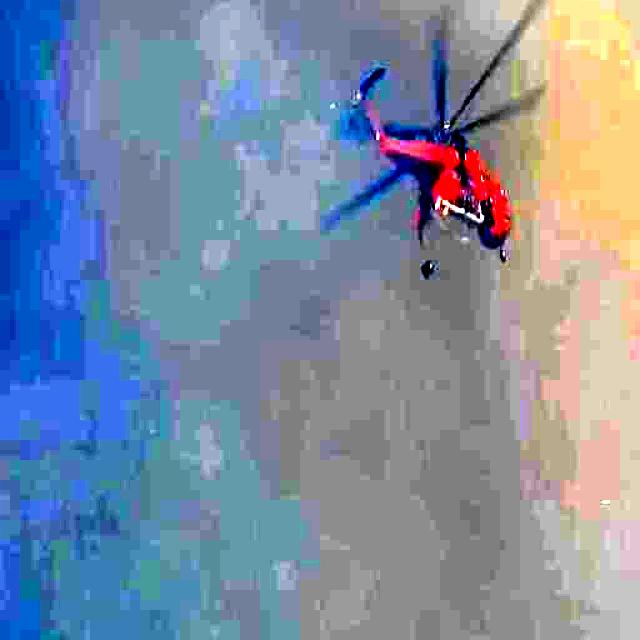drone: (338, 0, 540, 310)
